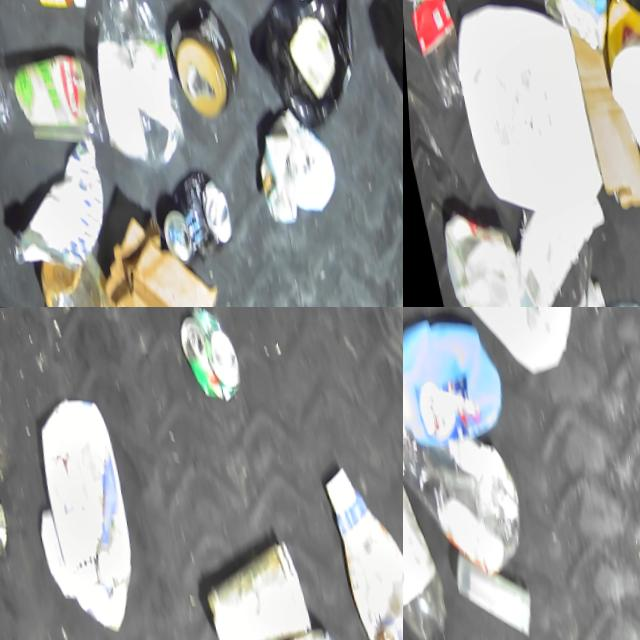can: (146, 165, 232, 265), (170, 307, 251, 406)
milk_jug: (442, 0, 603, 229), (11, 389, 147, 640), (403, 307, 584, 387), (428, 196, 533, 307)
non_white_jug: (403, 307, 509, 456)
plastic_bottle: (403, 375, 449, 640), (403, 0, 471, 108)
